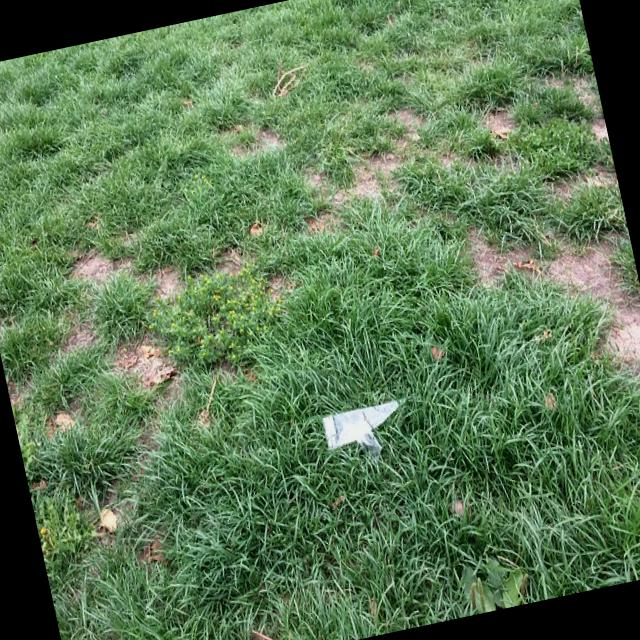Trash: (318, 390, 417, 466)
